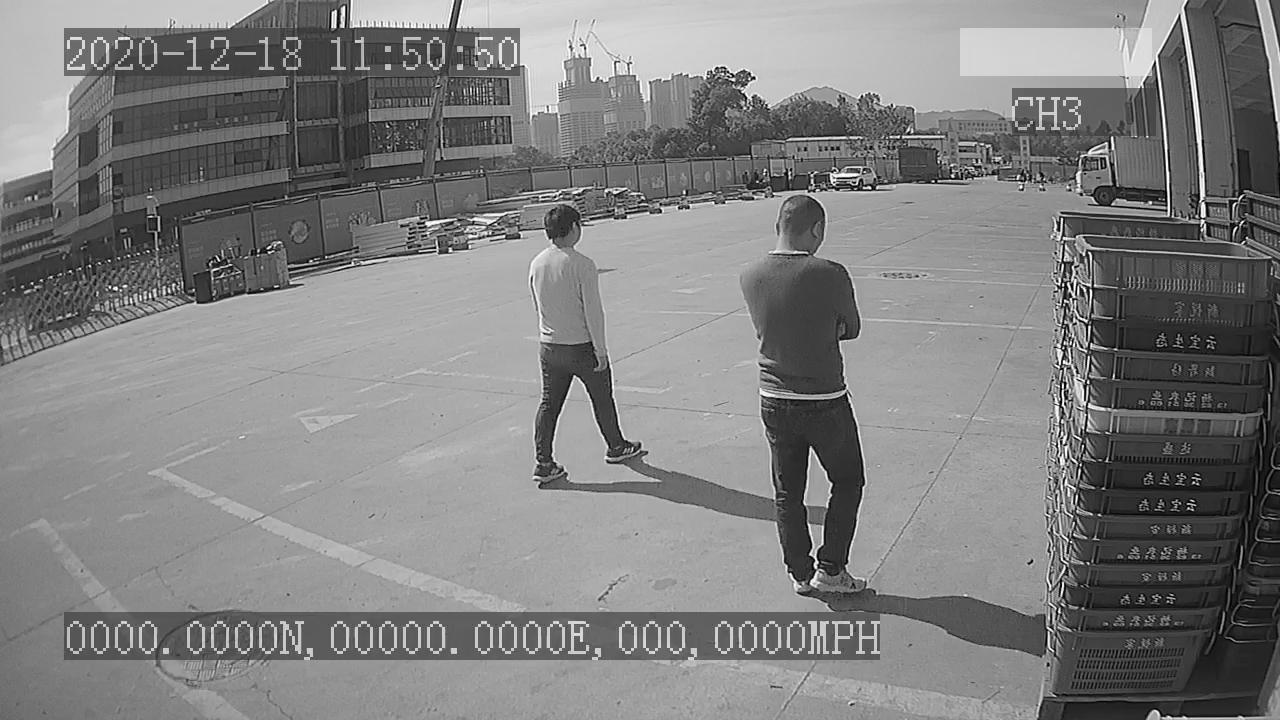person: (734, 188, 879, 602), (526, 199, 654, 485)
